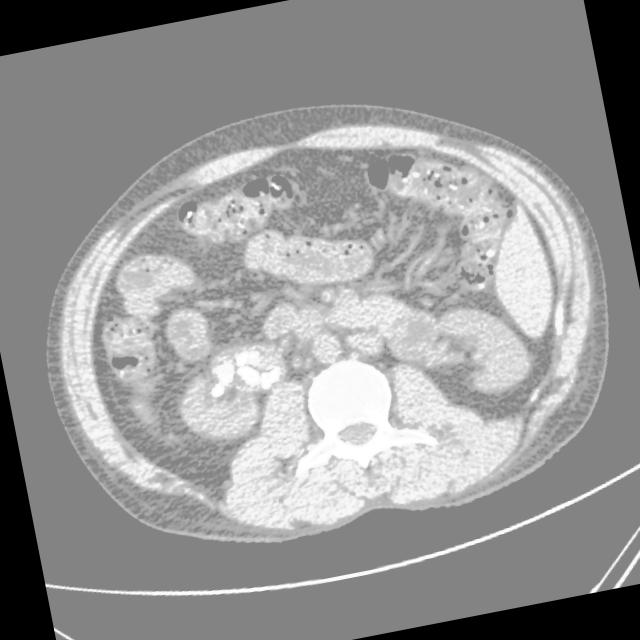STONE: (38, 41, 584, 471)
